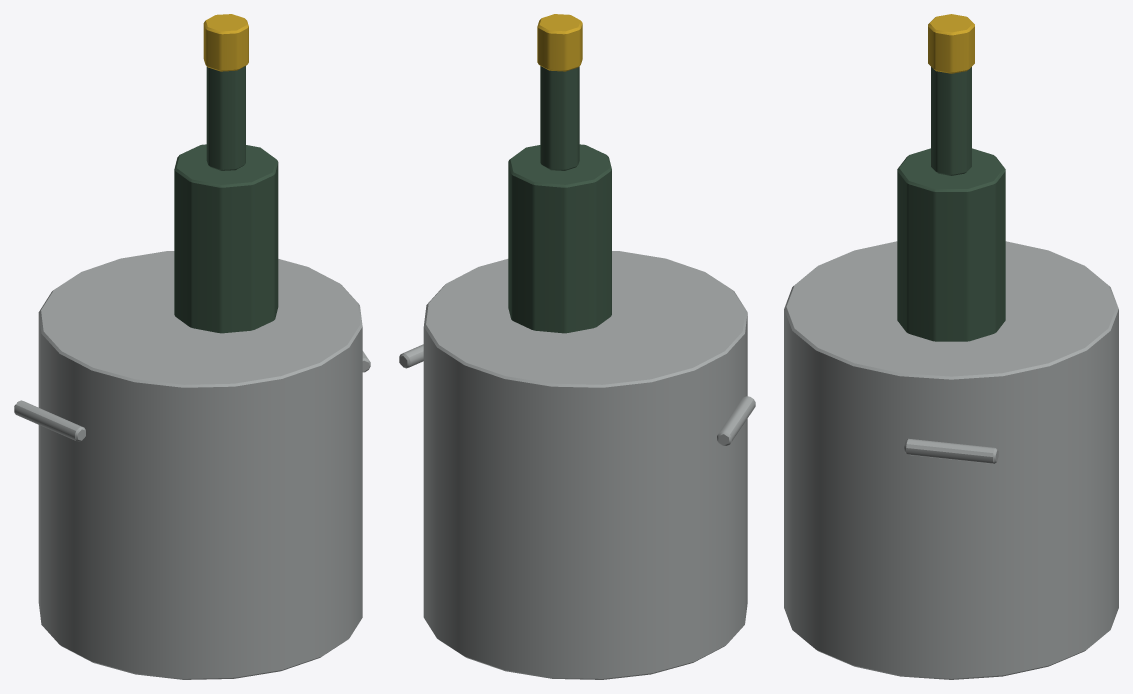
File: prop_ah_ice_bucket.glb
3 renders of one model, left to right at view 1: azimuth 30°, elevation 25°; view 2: azimuth 150°, elevation 25°; view 3: azimuth 270°, elevation 25°, orthographic. The views are drawn at different scales.
Visible parts, largest first — view 1: Body; view 2: Body; view 3: Body.
Boxes of the visible parts, <box> form: Body: <box>14,14,370,679</box>; Body: <box>399,14,755,679</box>; Body: <box>784,14,1118,679</box>.
Size of the model in its own units: 0.2594 by 0.435 by 0.22.
